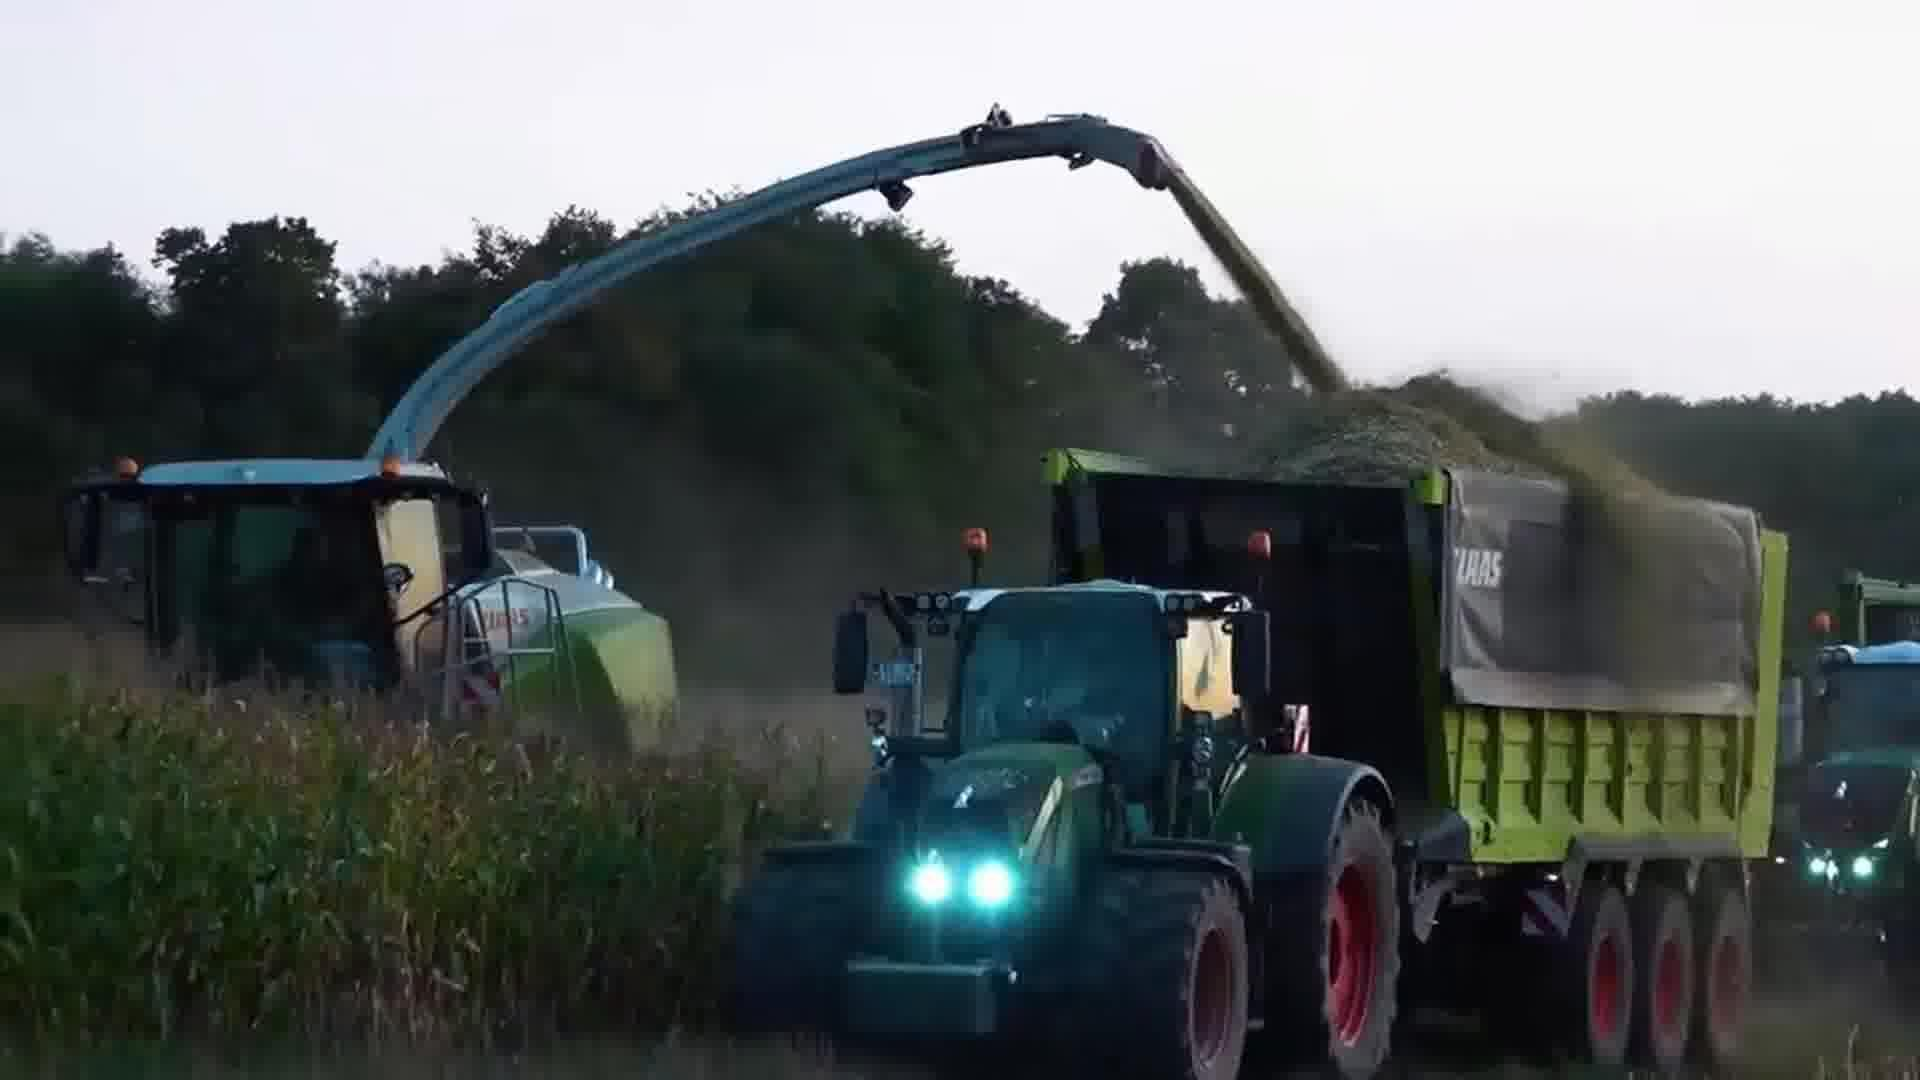combine harvester: (44, 100, 1196, 781)
tractor: (719, 517, 1418, 1080), (1764, 625, 1920, 1021)
trailer: (1030, 415, 1791, 1077)
